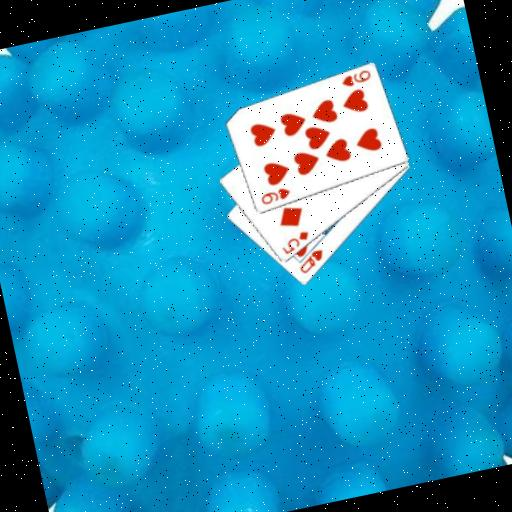5D: (275, 227, 313, 257)
9H: (255, 183, 293, 208), (336, 65, 373, 90)
QH: (293, 245, 328, 276)
